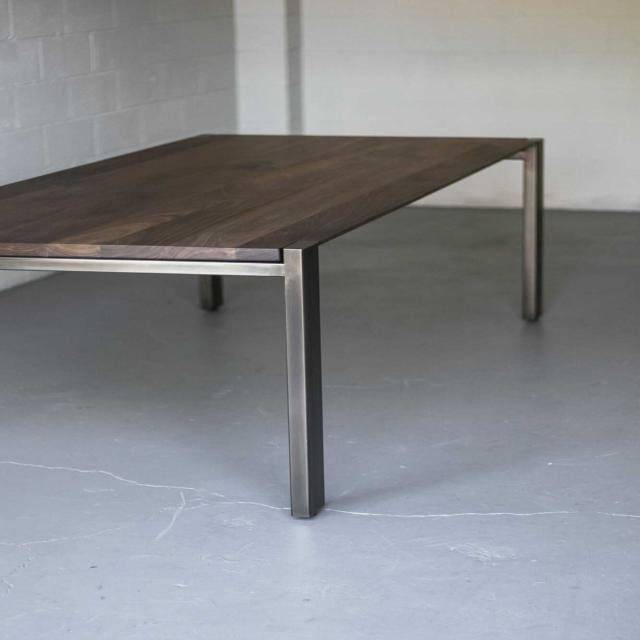table: (2, 94, 579, 555)
